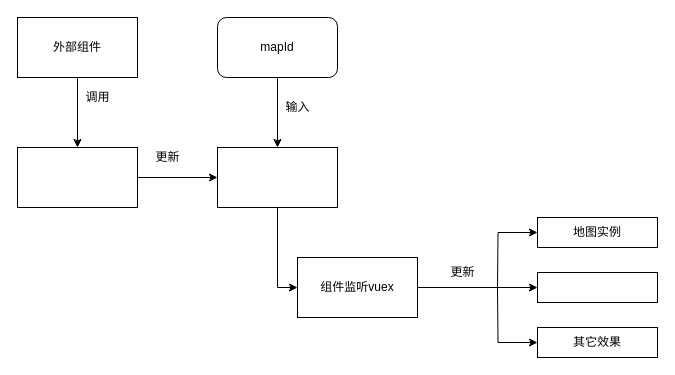
The diagram is 675 pixels wide and 375 high, and some of its shapes have lost their labels. The box of each missing label's shape, as (x1, y1, x2, y2) in pixels:
vuex提供mutation、action: (16, 146, 138, 208)
vuex状态管理: (216, 146, 338, 208)
图层实例: (536, 272, 658, 302)
